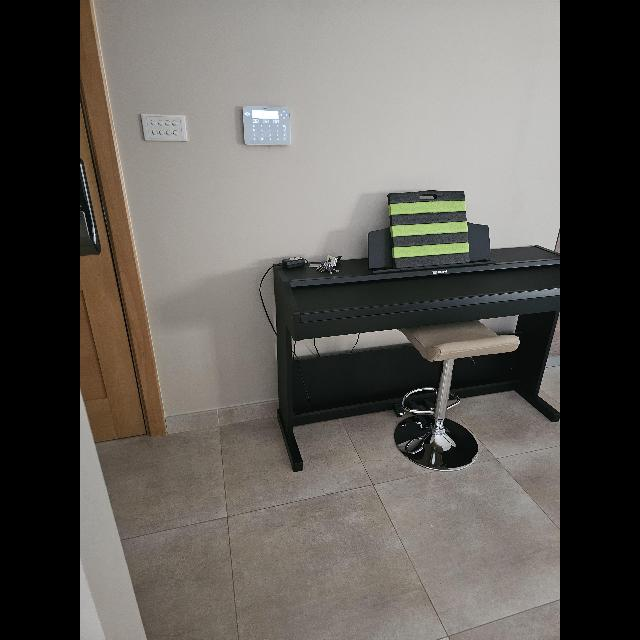Keys: (316, 257, 342, 273)
